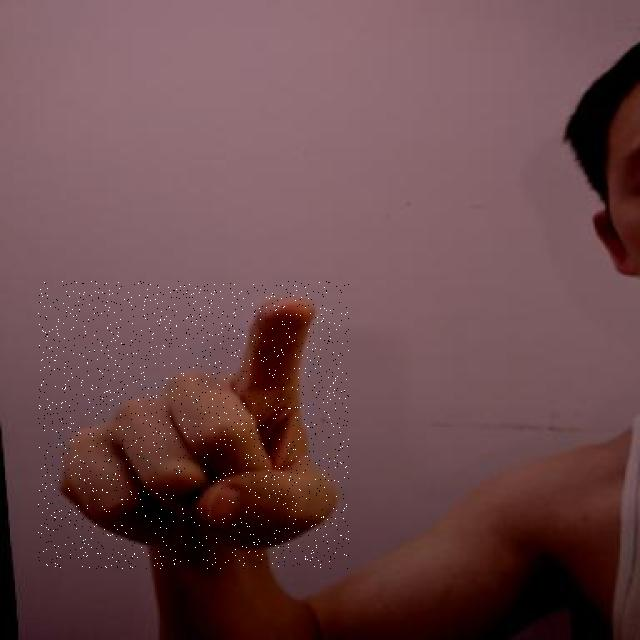Z: (38, 281, 349, 569)
